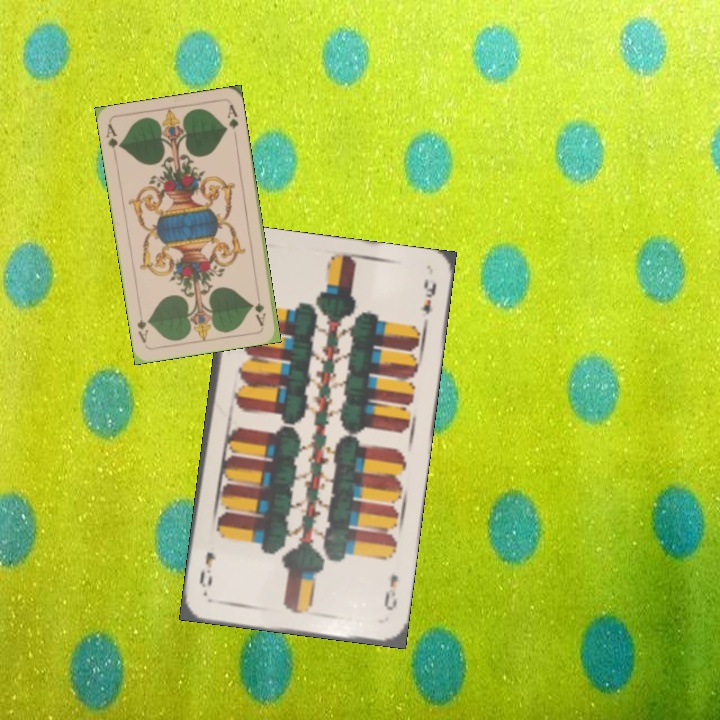E9: (379, 570, 401, 613)
GA: (251, 288, 268, 329), (102, 120, 124, 151)
